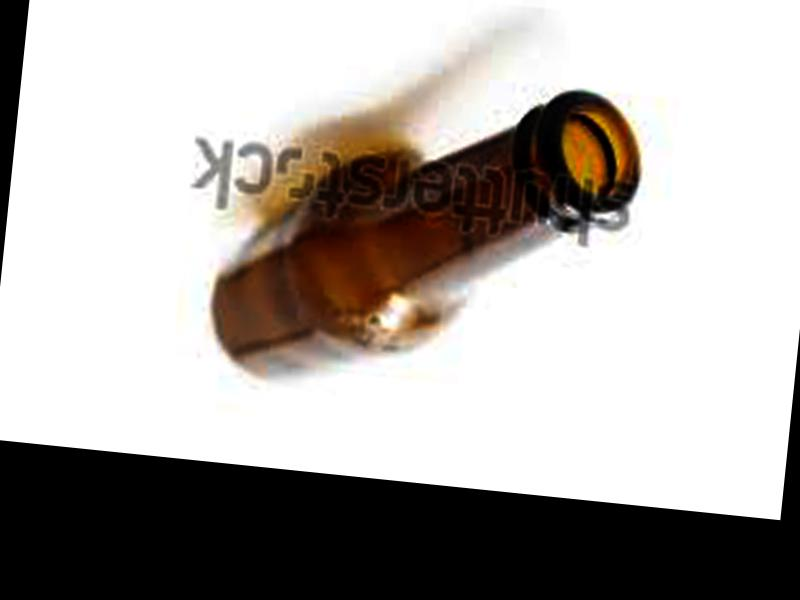Beer: (204, 53, 649, 413)
